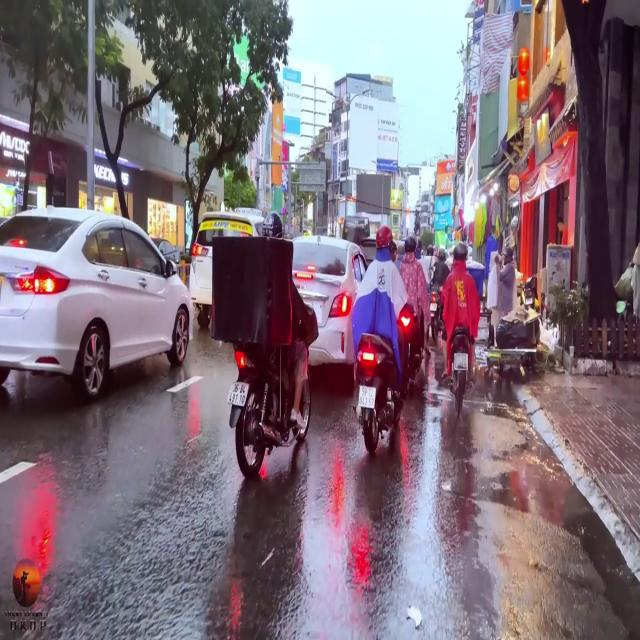bien_trang: (228, 377, 250, 410)
